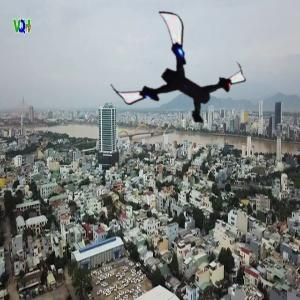drone: (118, 23, 233, 138)
